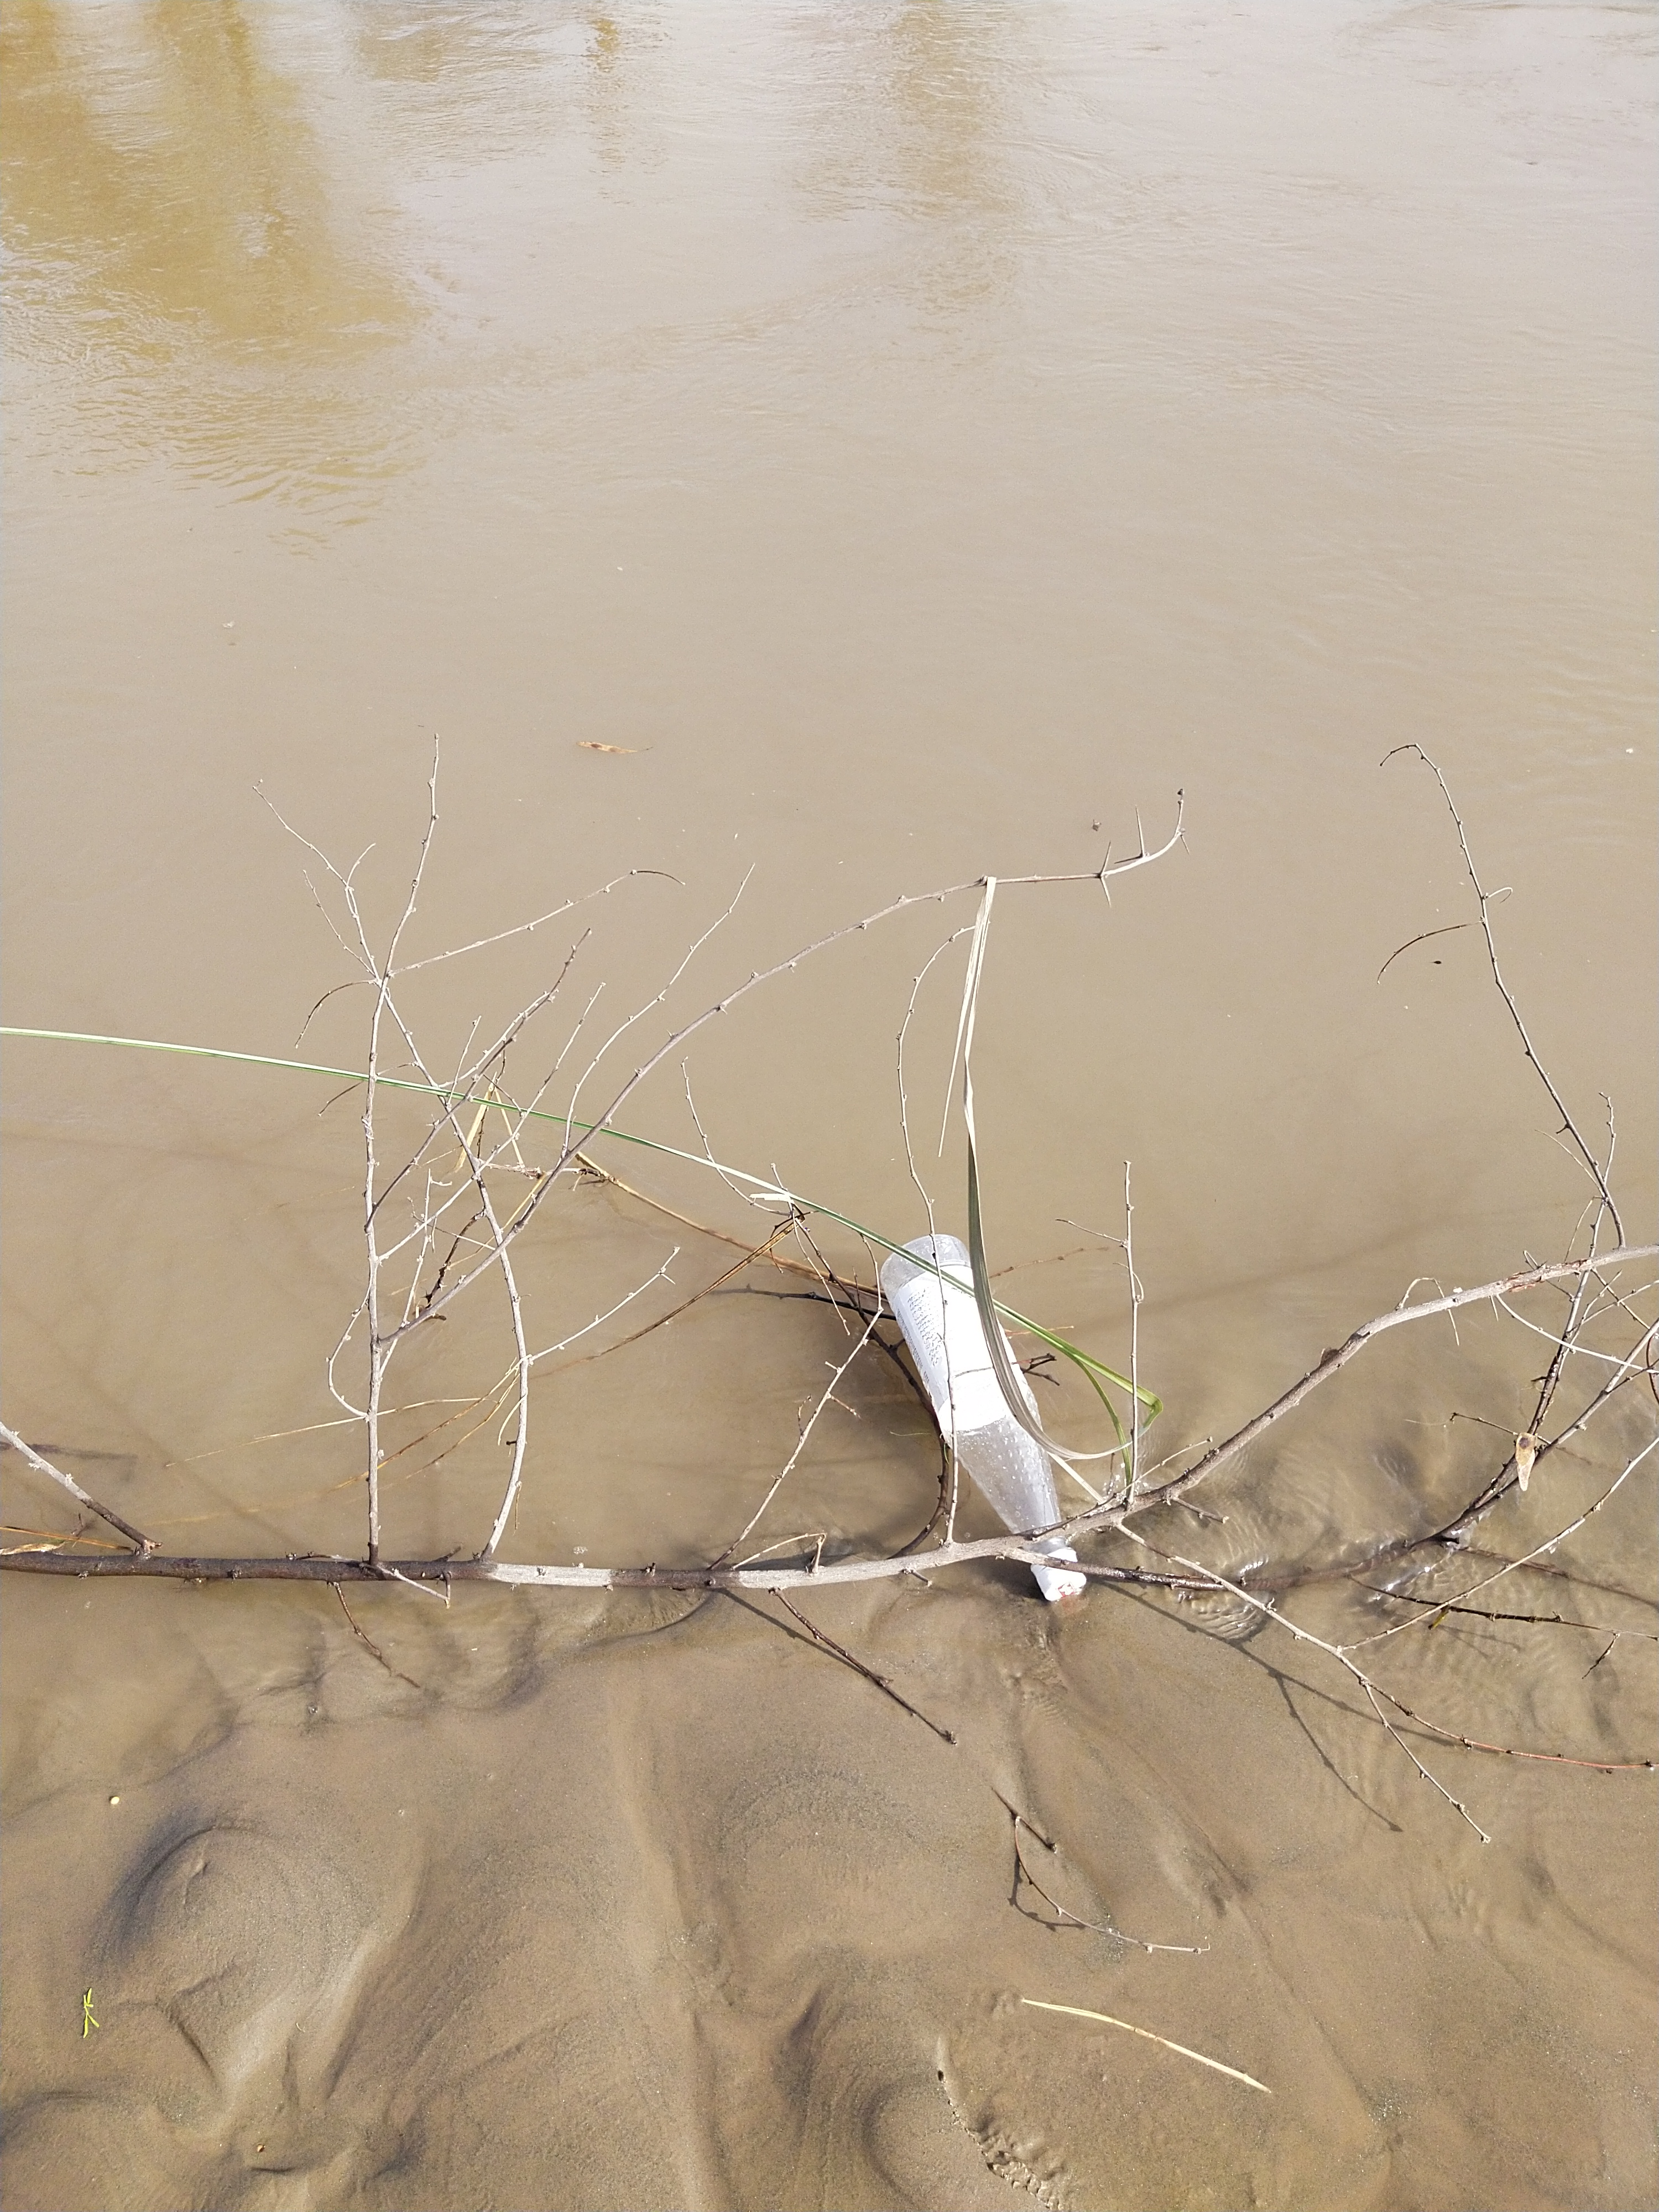Plastic Bottle: (880, 1233, 1087, 1601)
